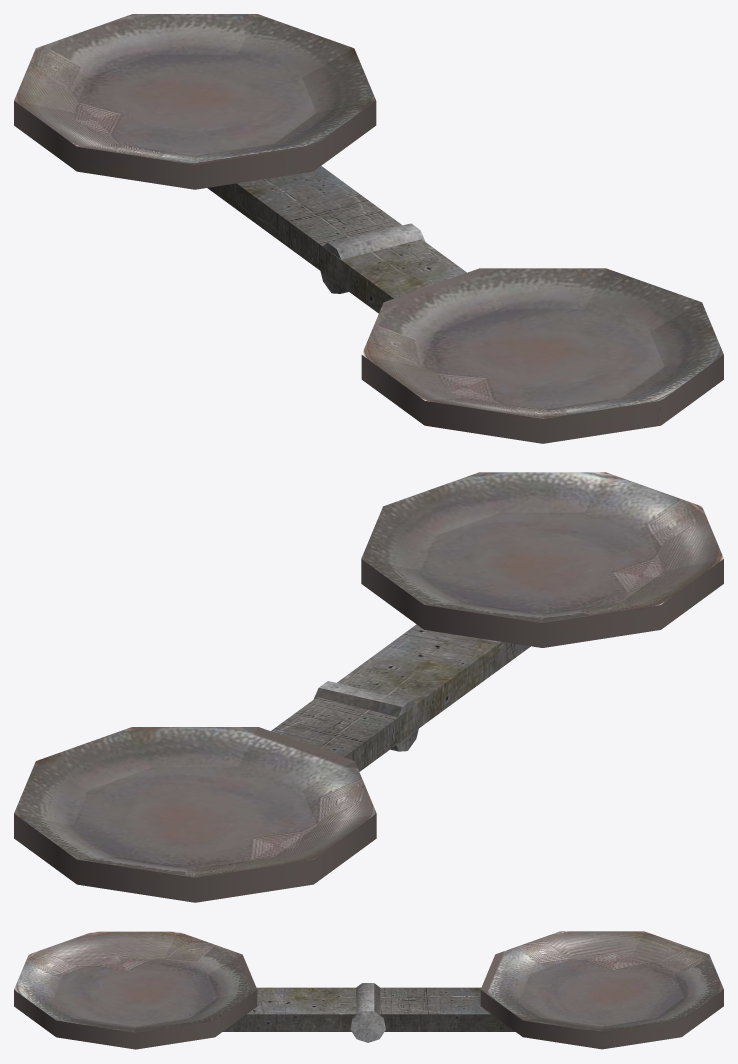
The model's file is Balanza.FBX.
3 renders of one model, top to bottom at view 1: azimuth 30°, elevation 25°; view 2: azimuth 150°, elevation 25°; view 3: azimuth 270°, elevation 25°, orthographic. The views are drawn at different scales.
Visible parts, largest first — view 1: Balanza; view 2: Balanza; view 3: Balanza.
Boxes of the visible parts, box(x1,y1,x2,y2) form: Balanza: box(14, 14, 723, 443); Balanza: box(14, 472, 723, 902); Balanza: box(14, 931, 723, 1049).
Bounding box in the file's own units: 31.54 × 6.89 × 93.27.
